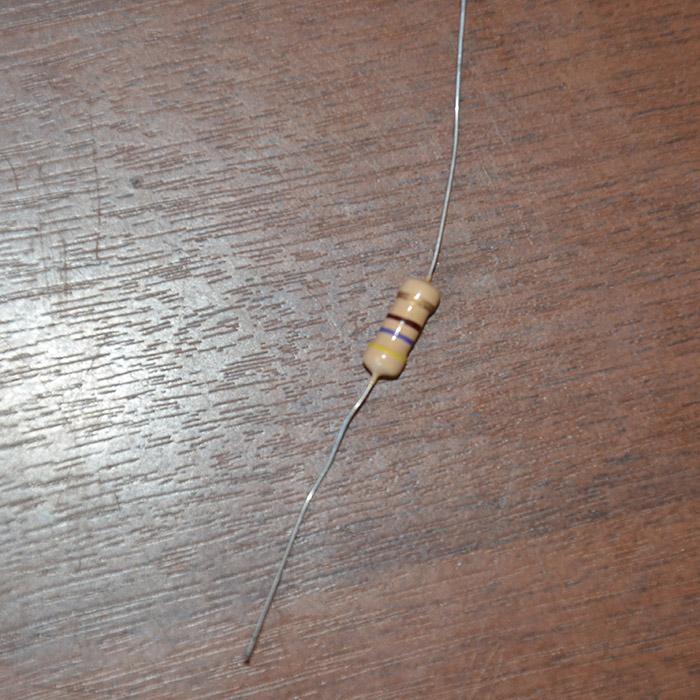resistor: (363, 276, 440, 379)
